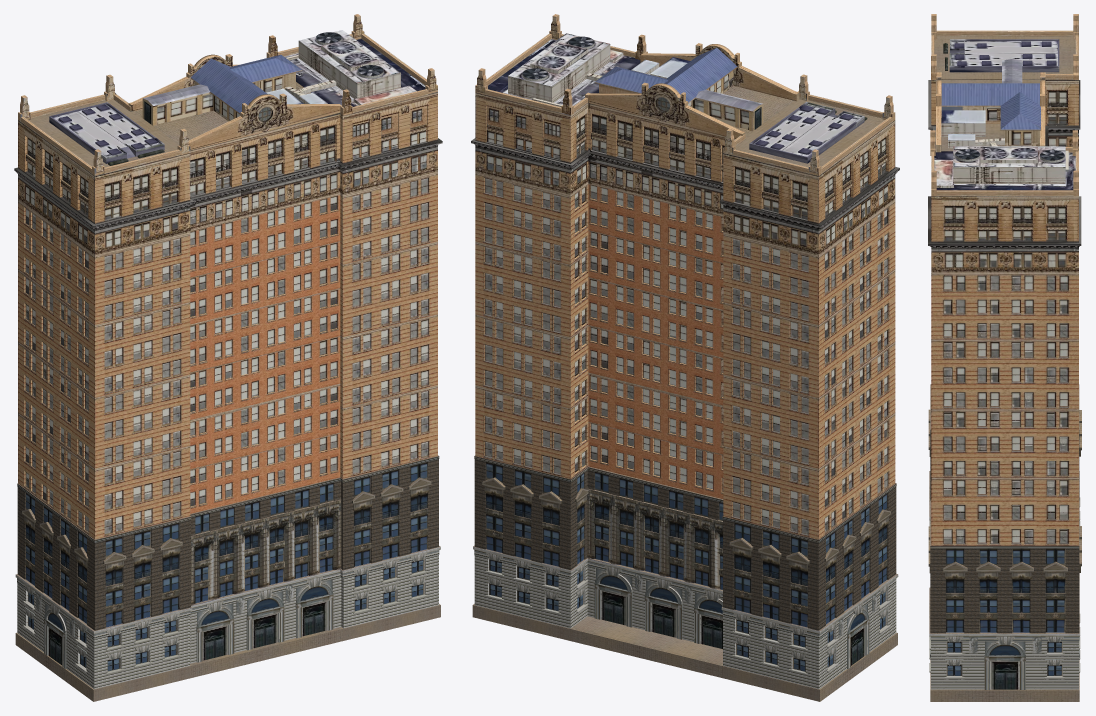
The model's file is whitehall.glb.
3 views of the same model, side by side, from view 1: azimuth 30°, elevation 25°; view 2: azimuth 150°, elevation 25°; view 3: azimuth 270°, elevation 25° (orthographic). The views are drawn at different scales.
Visible parts, largest first — view 1: whitehall; view 2: whitehall; view 3: whitehall.
Boxes of the visible parts, box(x1,y1,x2,y2) form: whitehall: box(14, 14, 442, 701); whitehall: box(471, 14, 899, 701); whitehall: box(928, 14, 1081, 701).
Bounding box in the file's own units: 45 × 69 × 17.85.
5 materials, 5 textured.
